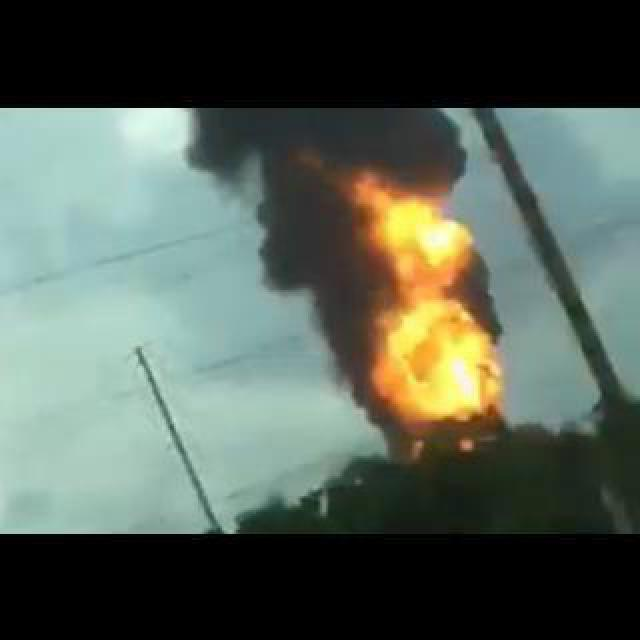Fire: (352, 180, 496, 416)
Smoke: (206, 110, 390, 380)
